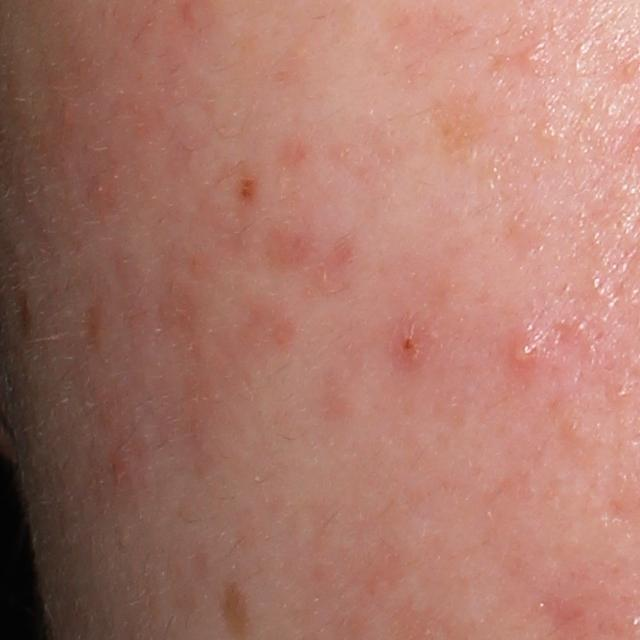comedo: (521, 47, 546, 66), (535, 122, 559, 140)
papule: (391, 323, 429, 359)
pustule: (503, 333, 543, 374)
